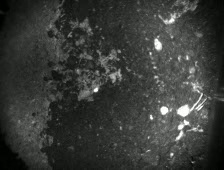corn: (151, 36, 165, 54), (91, 86, 101, 93)
